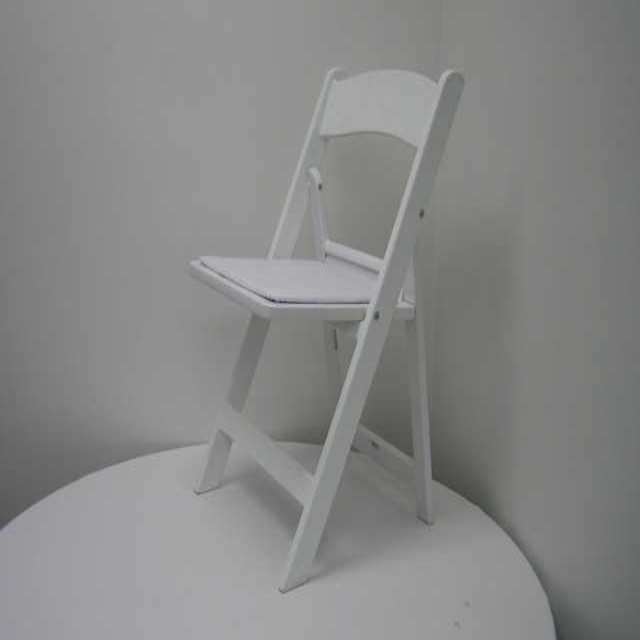obstacle: (189, 68, 462, 589)
